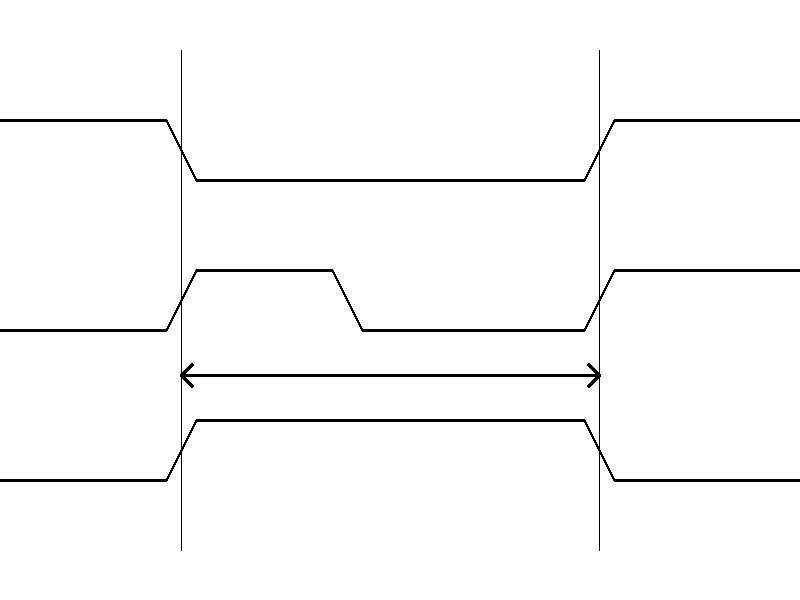double_arrow: (181, 360, 599, 390)
